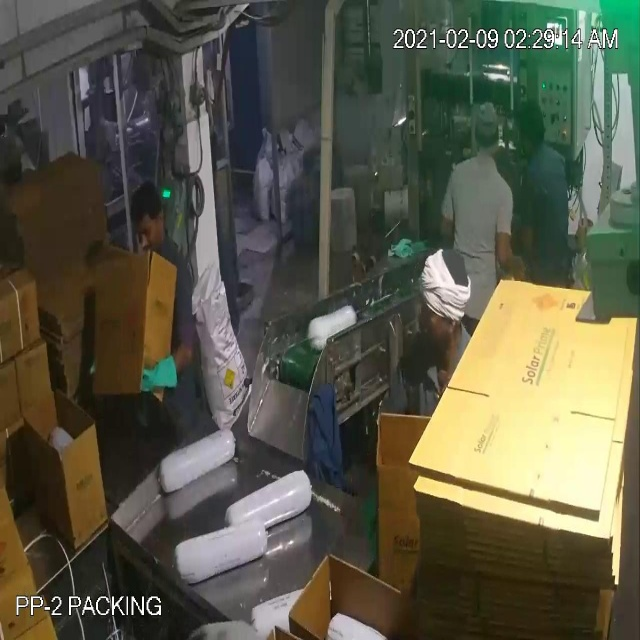Guantes: (126, 342, 187, 399)
Sin_guantes: (483, 209, 534, 293)
